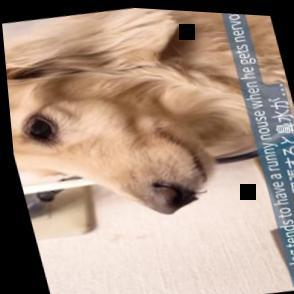nasal_discharge: (170, 182, 209, 209)
